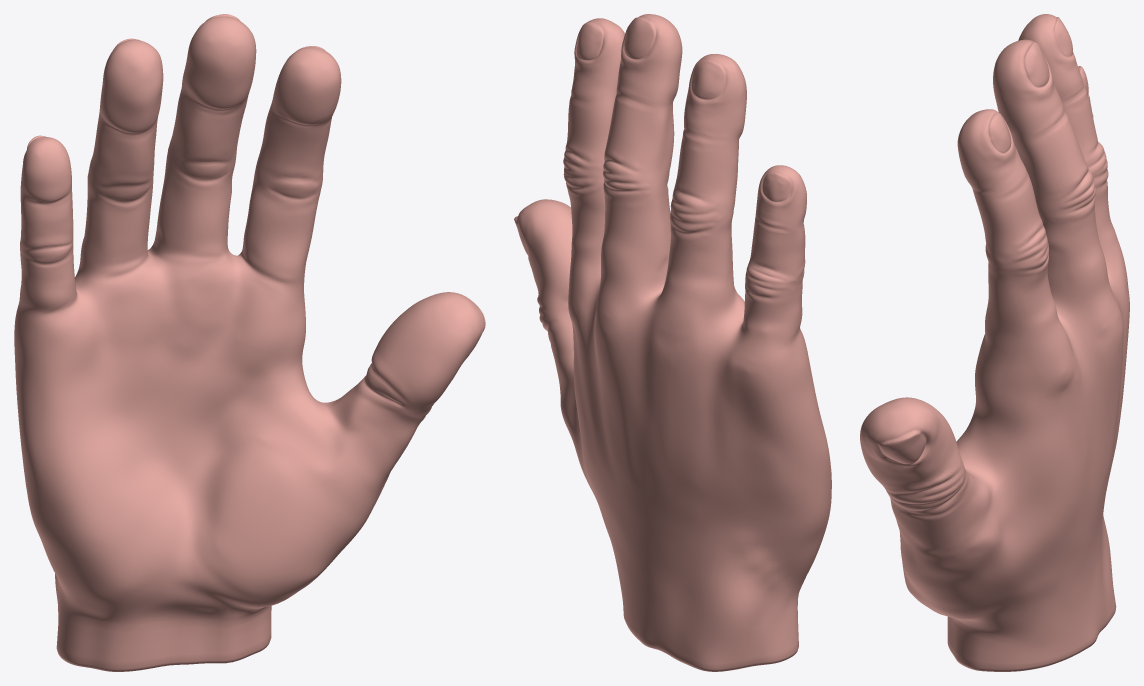
File: Tangan.glb
3 views of the same model, side by side, from view 1: azimuth 30°, elevation 25°; view 2: azimuth 150°, elevation 25°; view 3: azimuth 270°, elevation 25° (orthographic). The views are drawn at different scales.
Parts seen in each view (by area): view 1: imagetostl_mesh0; view 2: imagetostl_mesh0; view 3: imagetostl_mesh0.
Boxes of the visible parts, bbox=[...] form: imagetostl_mesh0: bbox=[14, 14, 485, 671]; imagetostl_mesh0: bbox=[514, 14, 831, 671]; imagetostl_mesh0: bbox=[860, 14, 1129, 671].
Size of the model in its own units: 13.33 by 20.27 by 8.04.
